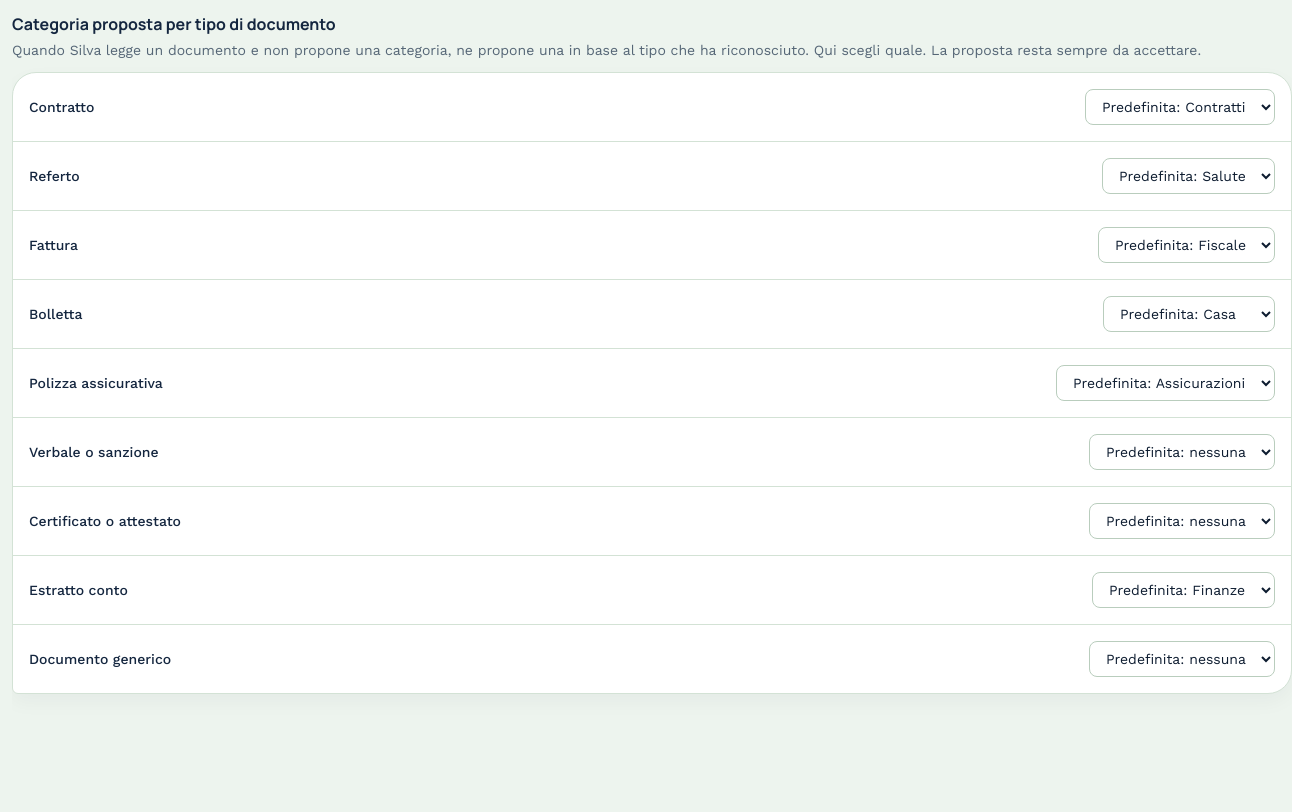
Test: DocumentTypeCategoriesPanel › se salvare fallisce, lo dice
The width and height of the screenshot is (1292, 812).
Select "🏠 Casa" in the dropdown labelled "Bolletta" at x=1189, y=314, box top-left (1103, 296), bottom-right (1275, 332)
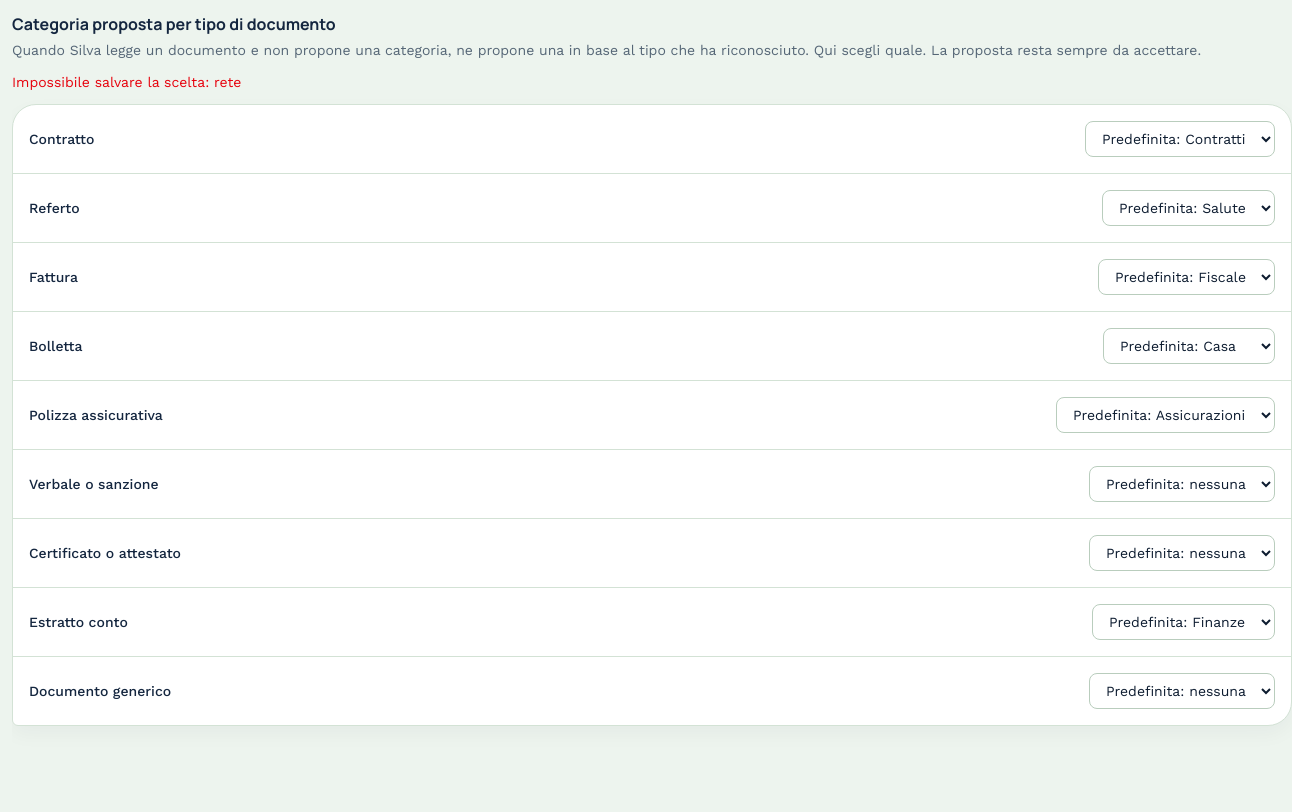
expect the message shows "Impossibile salvare la scelta": met, box top-left (12, 74), bottom-right (241, 90)
